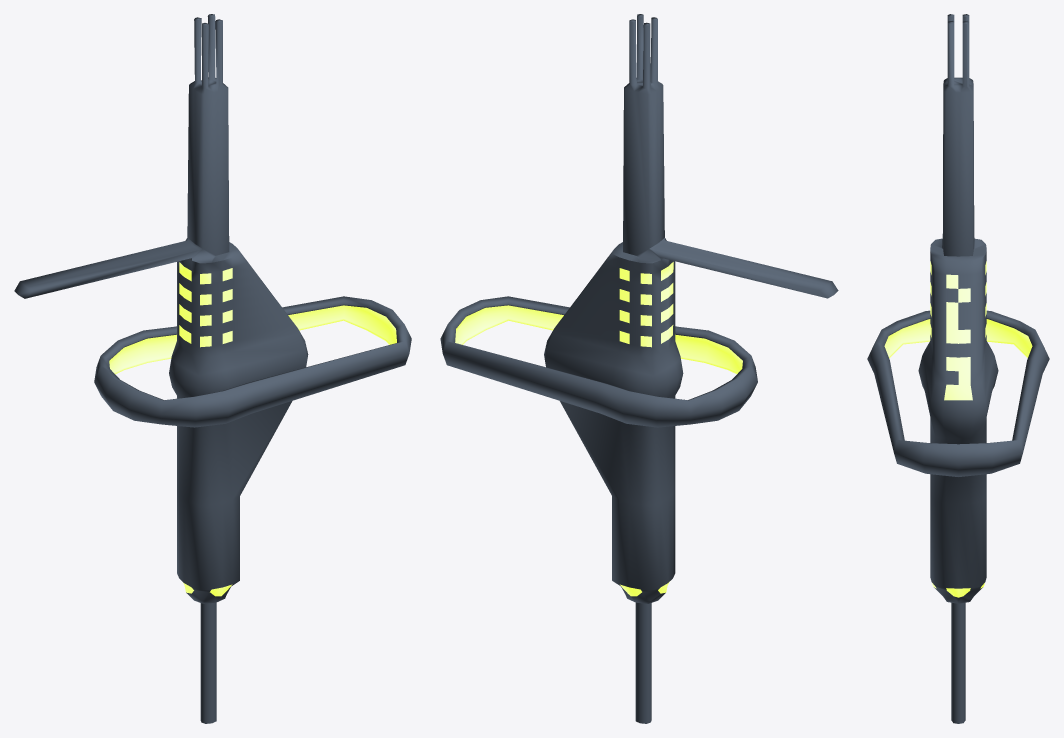
File: Station0.fbx
The picture shows the model from 3 angles, left to right: view 1: azimuth 30°, elevation 25°; view 2: azimuth 150°, elevation 25°; view 3: azimuth 270°, elevation 25°; orthographic projection.
Visible parts, largest first — view 1: Hull; view 2: Hull; view 3: Hull.
Part boxes in pixels (bbox=[...]): Hull: bbox=[14, 14, 411, 723]; Hull: bbox=[440, 14, 838, 723]; Hull: bbox=[867, 14, 1049, 723].
Bounding box in the file's own units: 4203 × 7366 × 1738.
